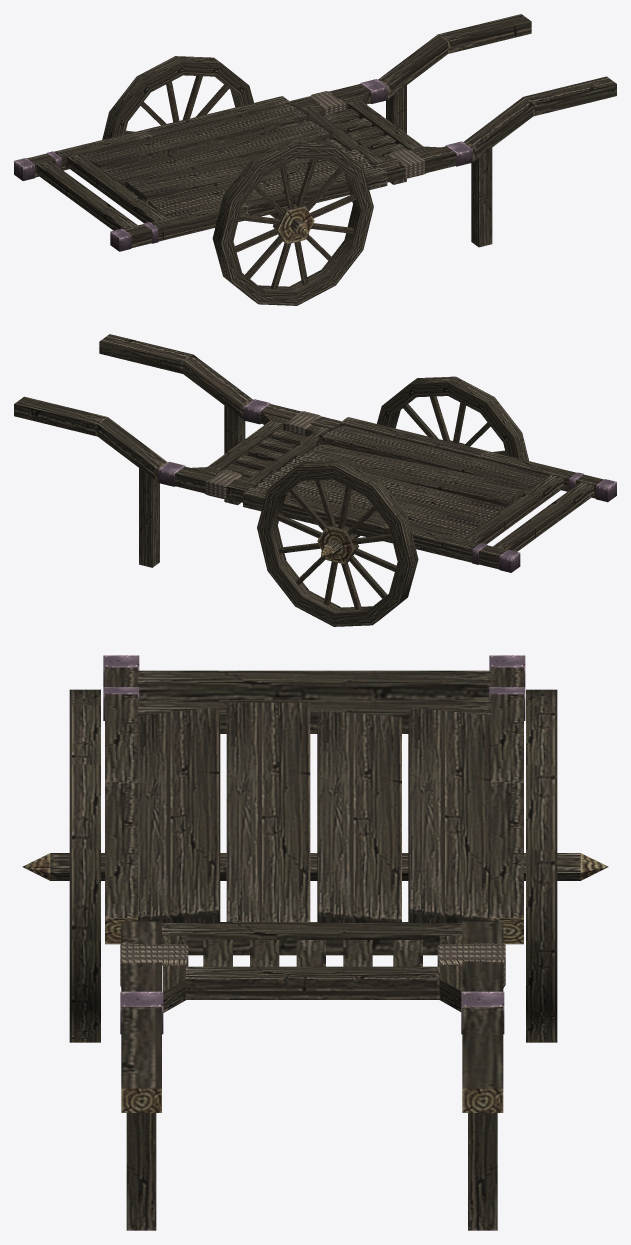
The model's file is Handcart01_Parts_LostTemple_001.FBX.
3 views of the same model, one above another, from view 1: azimuth 30°, elevation 25°; view 2: azimuth 150°, elevation 25°; view 3: azimuth 270°, elevation 25° (orthographic). The views are drawn at different scales.
Visible parts, largest first — view 1: Handcart01_Parts_LostTemple_001; view 2: Handcart01_Parts_LostTemple_001; view 3: Handcart01_Parts_LostTemple_001.
Part boxes in pixels (left/top/right/bottom): Handcart01_Parts_LostTemple_001: left=14, top=14, right=616, bottom=305; Handcart01_Parts_LostTemple_001: left=14, top=334, right=616, bottom=626; Handcart01_Parts_LostTemple_001: left=22, top=655, right=608, bottom=1230.
Size of the model in its own units: 566 by 173 by 286.
Materials: 1 (1 with a texture image).
